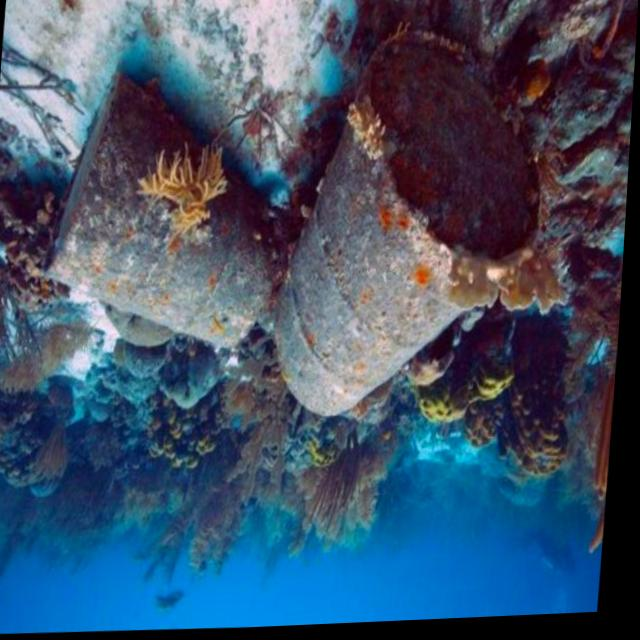Dead Coral: (0, 141, 60, 316)
